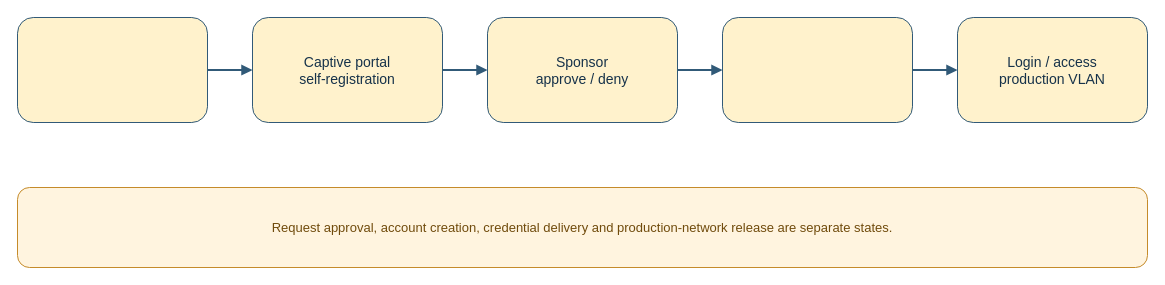
The diagram is 1165 pixels wide and 285 high, and some of its shapes have lost their labels. Here are the shapes that lost their labels. From the top down, the centre of each, then its label:
At point (112, 69): "Guest endpoint isolated network".
At point (817, 69): "Guest template account + expiry".
